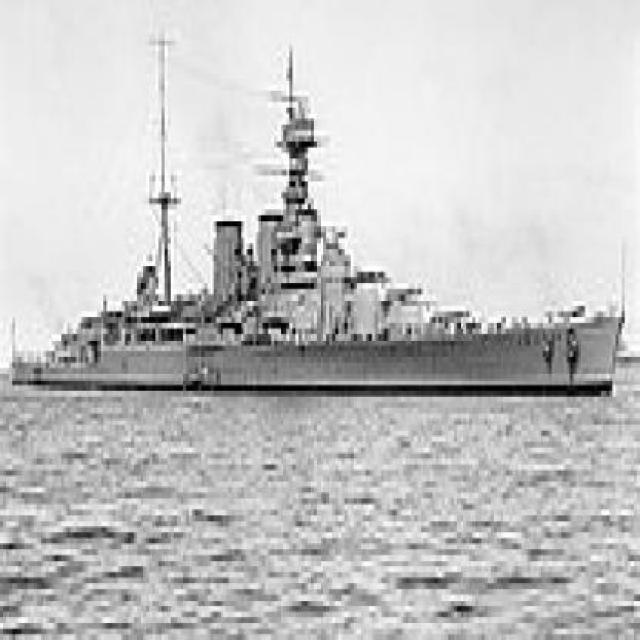warship2: (10, 24, 632, 410)
